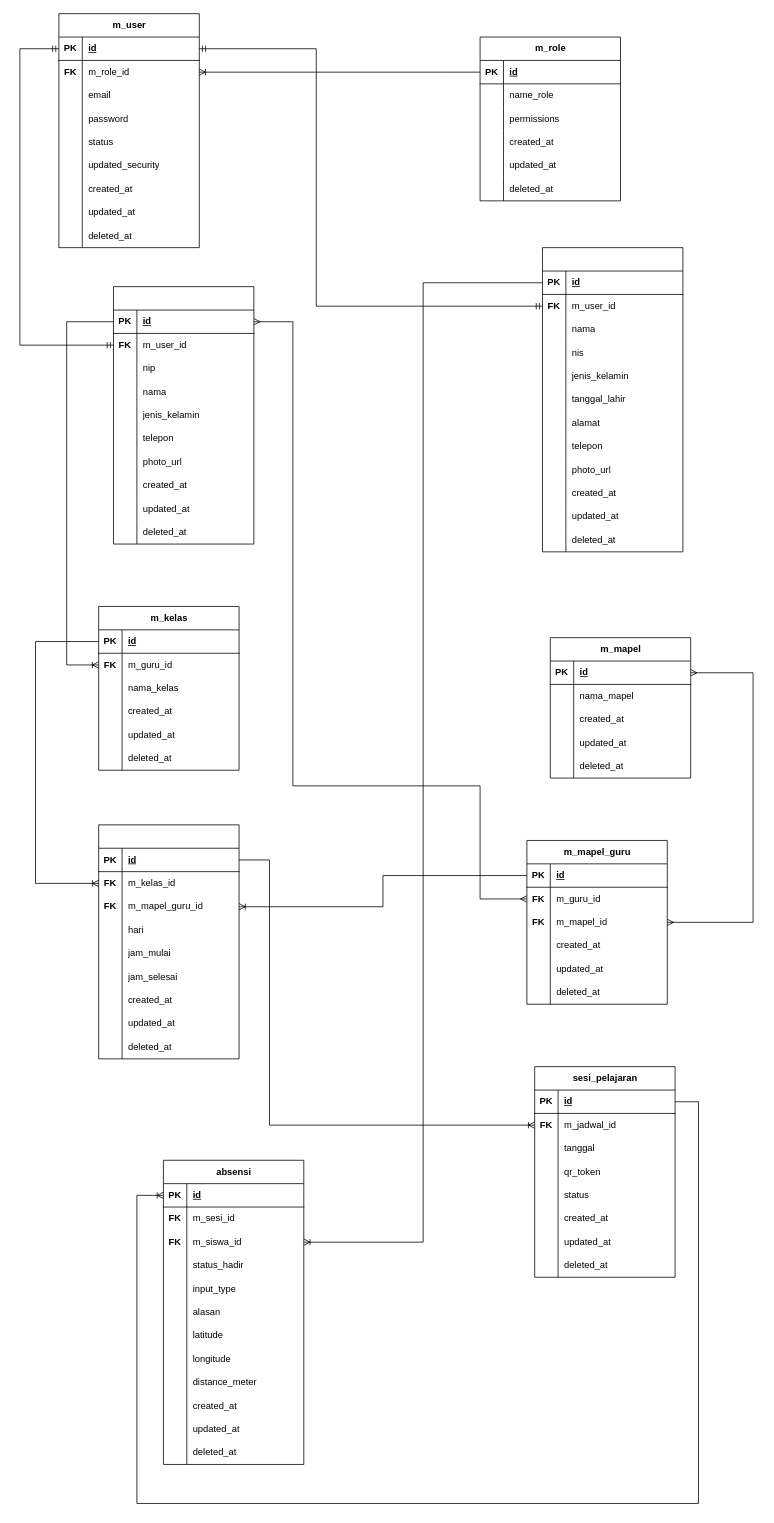
Image size: 774x1523. Some labels were removed from this diagram. Here are the shapes that lost their labels. From the top down, the box of each, then its label:
(113, 286, 254, 544): m_guru
(542, 247, 683, 552): m_siswa
(98, 824, 239, 1059): m_jadwal
